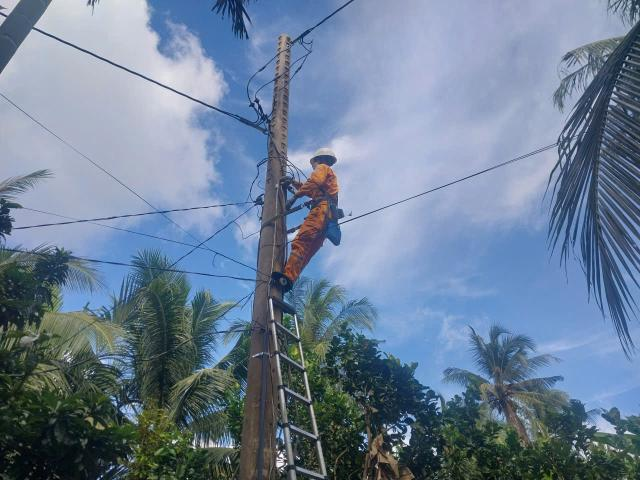gloves: (283, 195, 303, 211)
harness: (304, 193, 343, 205)
helmet: (307, 146, 341, 166)
shoes: (272, 266, 301, 292)
